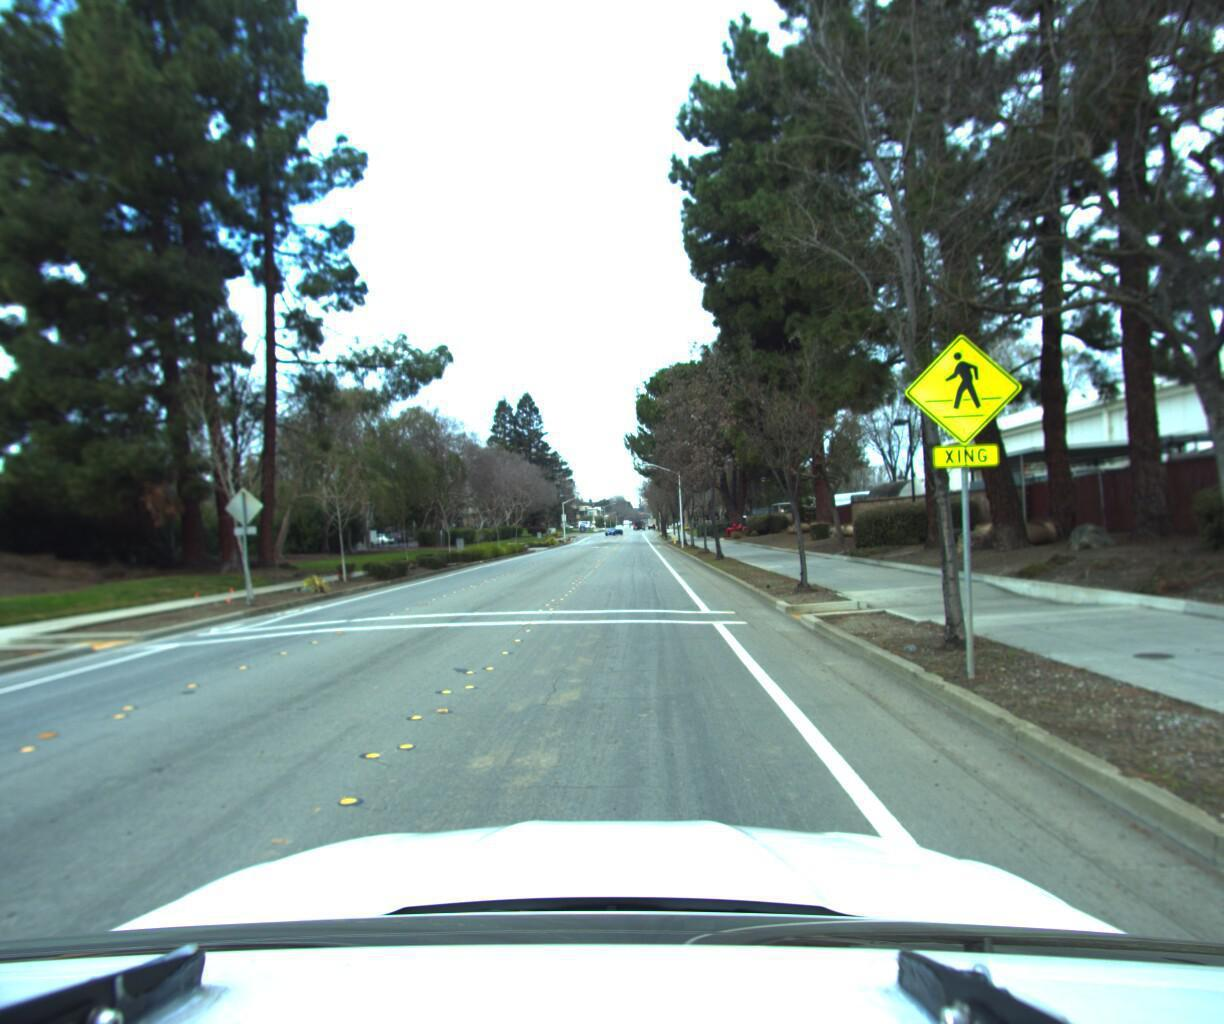other_vehicle: (803, 480, 957, 525)
